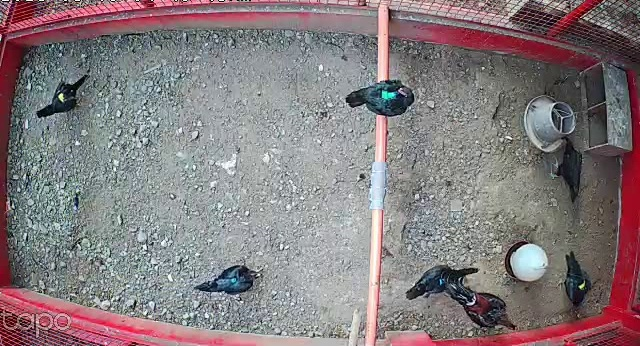Chicken: (34, 66, 96, 121), (402, 261, 482, 302), (345, 79, 418, 118), (555, 249, 594, 318), (549, 135, 587, 205), (193, 262, 267, 296)
Saddle_Color_Blue: (438, 278, 445, 284)
Saddle_Color_Yellow: (55, 90, 65, 103)
Saddle_Color_YellowGreen: (579, 279, 588, 291)
